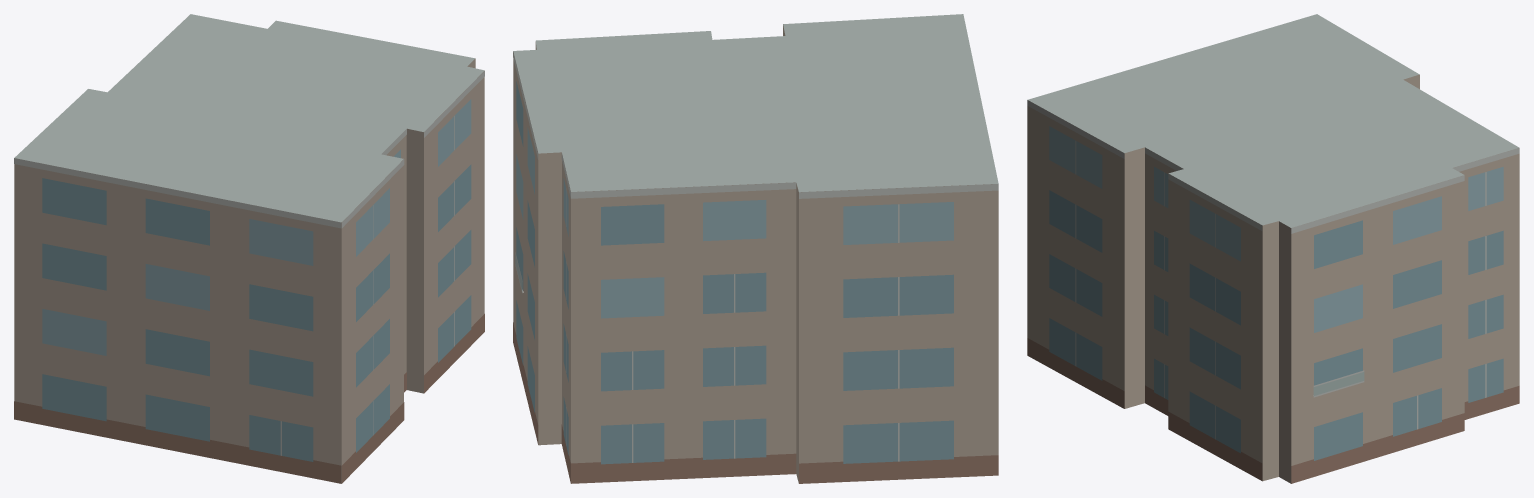
File: survey-upis-32516519.glb
The picture shows the model from 3 angles, left to right: view 1: azimuth 30°, elevation 25°; view 2: azimuth 150°, elevation 25°; view 3: azimuth 270°, elevation 25°; orthographic projection. The views are drawn at different scales.
Parts seen in each view (by area): view 1: survey-upis-32516519.tmp; view 2: survey-upis-32516519.tmp; view 3: survey-upis-32516519.tmp.
Part boxes in pixels (bbox=[...]): survey-upis-32516519.tmp: bbox=[14, 14, 484, 483]; survey-upis-32516519.tmp: bbox=[513, 14, 998, 483]; survey-upis-32516519.tmp: bbox=[1027, 14, 1519, 483].
Size of the model in its own units: 18.94 by 10.55 by 18.4.
